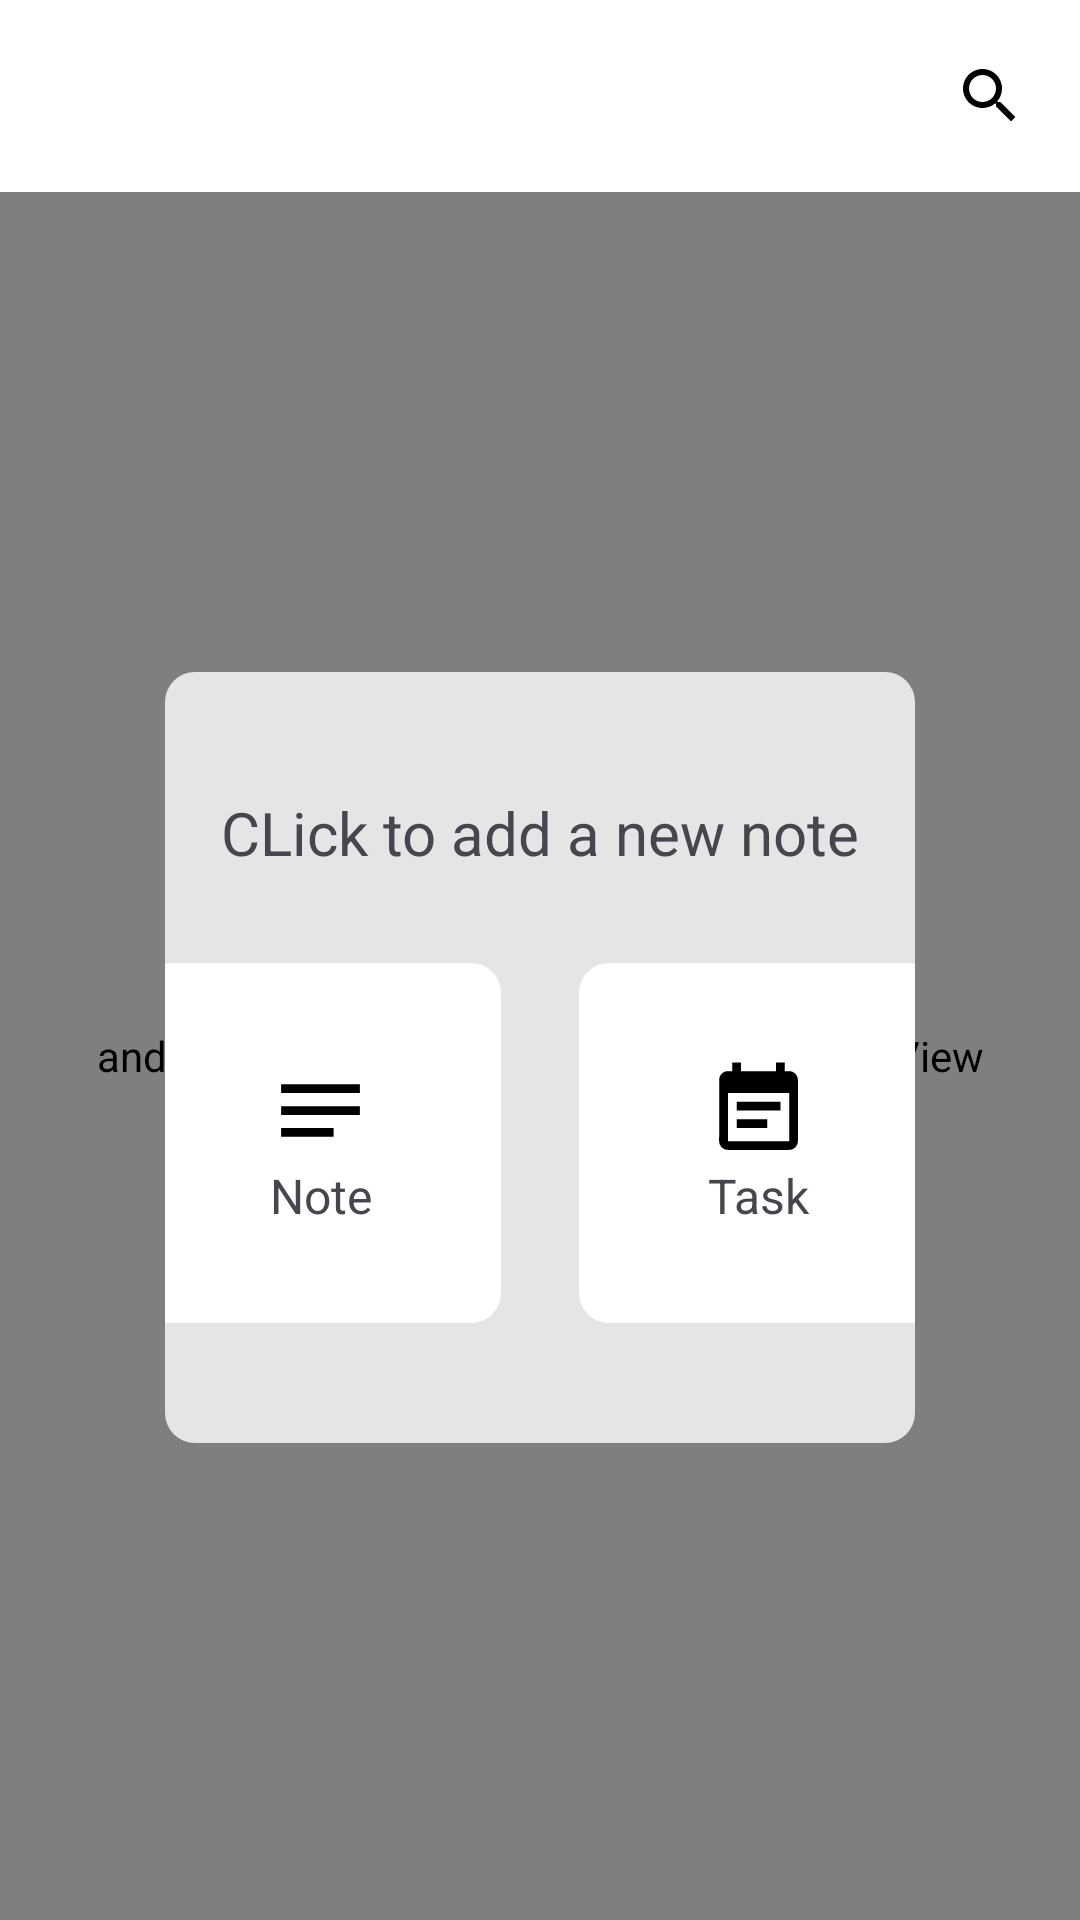

Icon click points for this 1080px×1920px phone screenshot, format (x,y):
event note: (758,1106)
search: (989,95)
